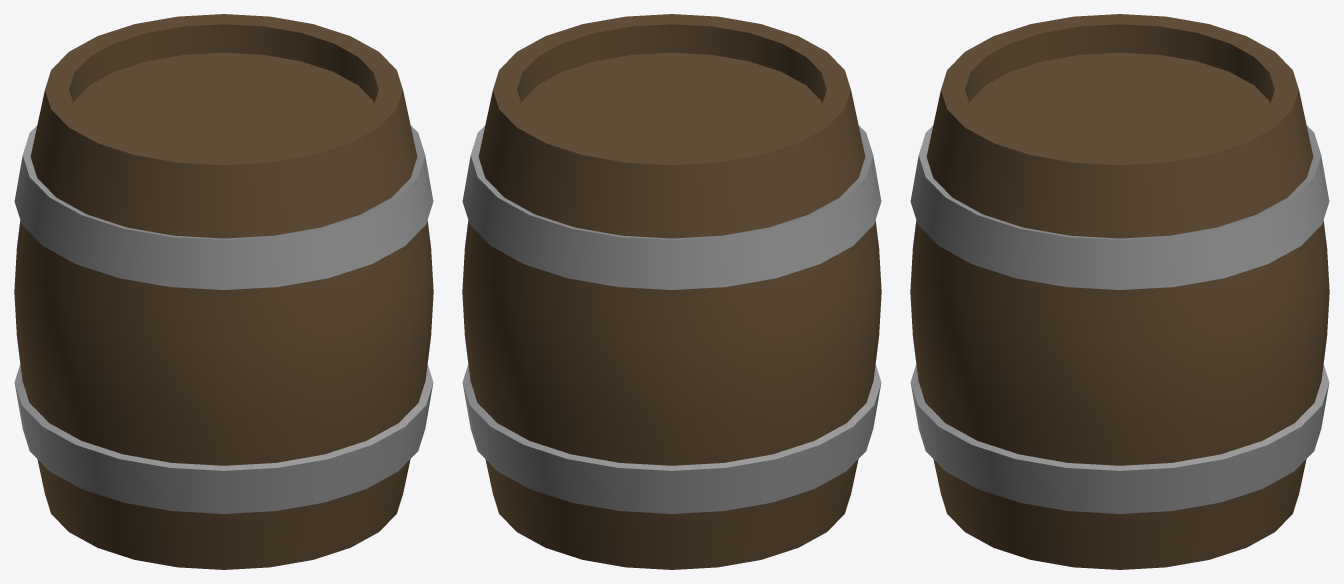
The model's file is Barryl.fbx.
The picture shows the model from 3 angles, left to right: view 1: azimuth 30°, elevation 25°; view 2: azimuth 150°, elevation 25°; view 3: azimuth 270°, elevation 25°; orthographic projection.
Parts seen in each view (by area): view 1: Barils.002; view 2: Barils.002; view 3: Barils.002.
Boxes of the visible parts, box(x1,y1,x2,y2) form: Barils.002: box(14, 14, 433, 569); Barils.002: box(462, 14, 881, 569); Barils.002: box(910, 14, 1329, 569).
Bounding box in the file's own units: 0.6466 × 0.6885 × 0.6466.
